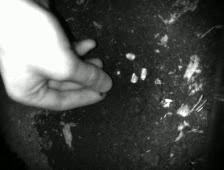corn: (137, 66, 150, 82), (128, 71, 140, 85), (123, 50, 137, 62), (115, 68, 121, 76)
